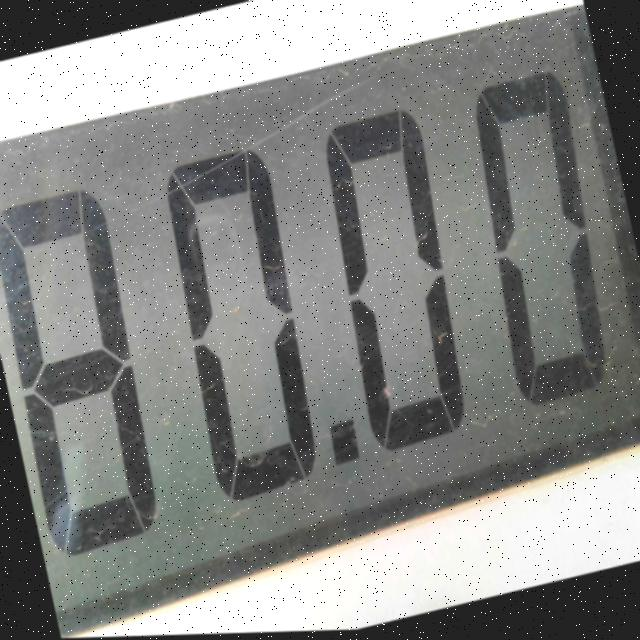.: (308, 393, 379, 507)
0: (288, 81, 512, 486), (130, 120, 349, 533), (446, 37, 640, 420)
8: (0, 166, 191, 569)
